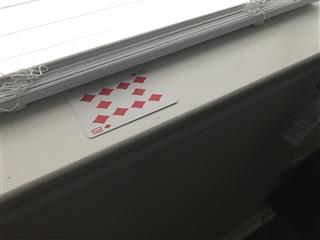TenOfDiamonds: (65, 64, 178, 139)
